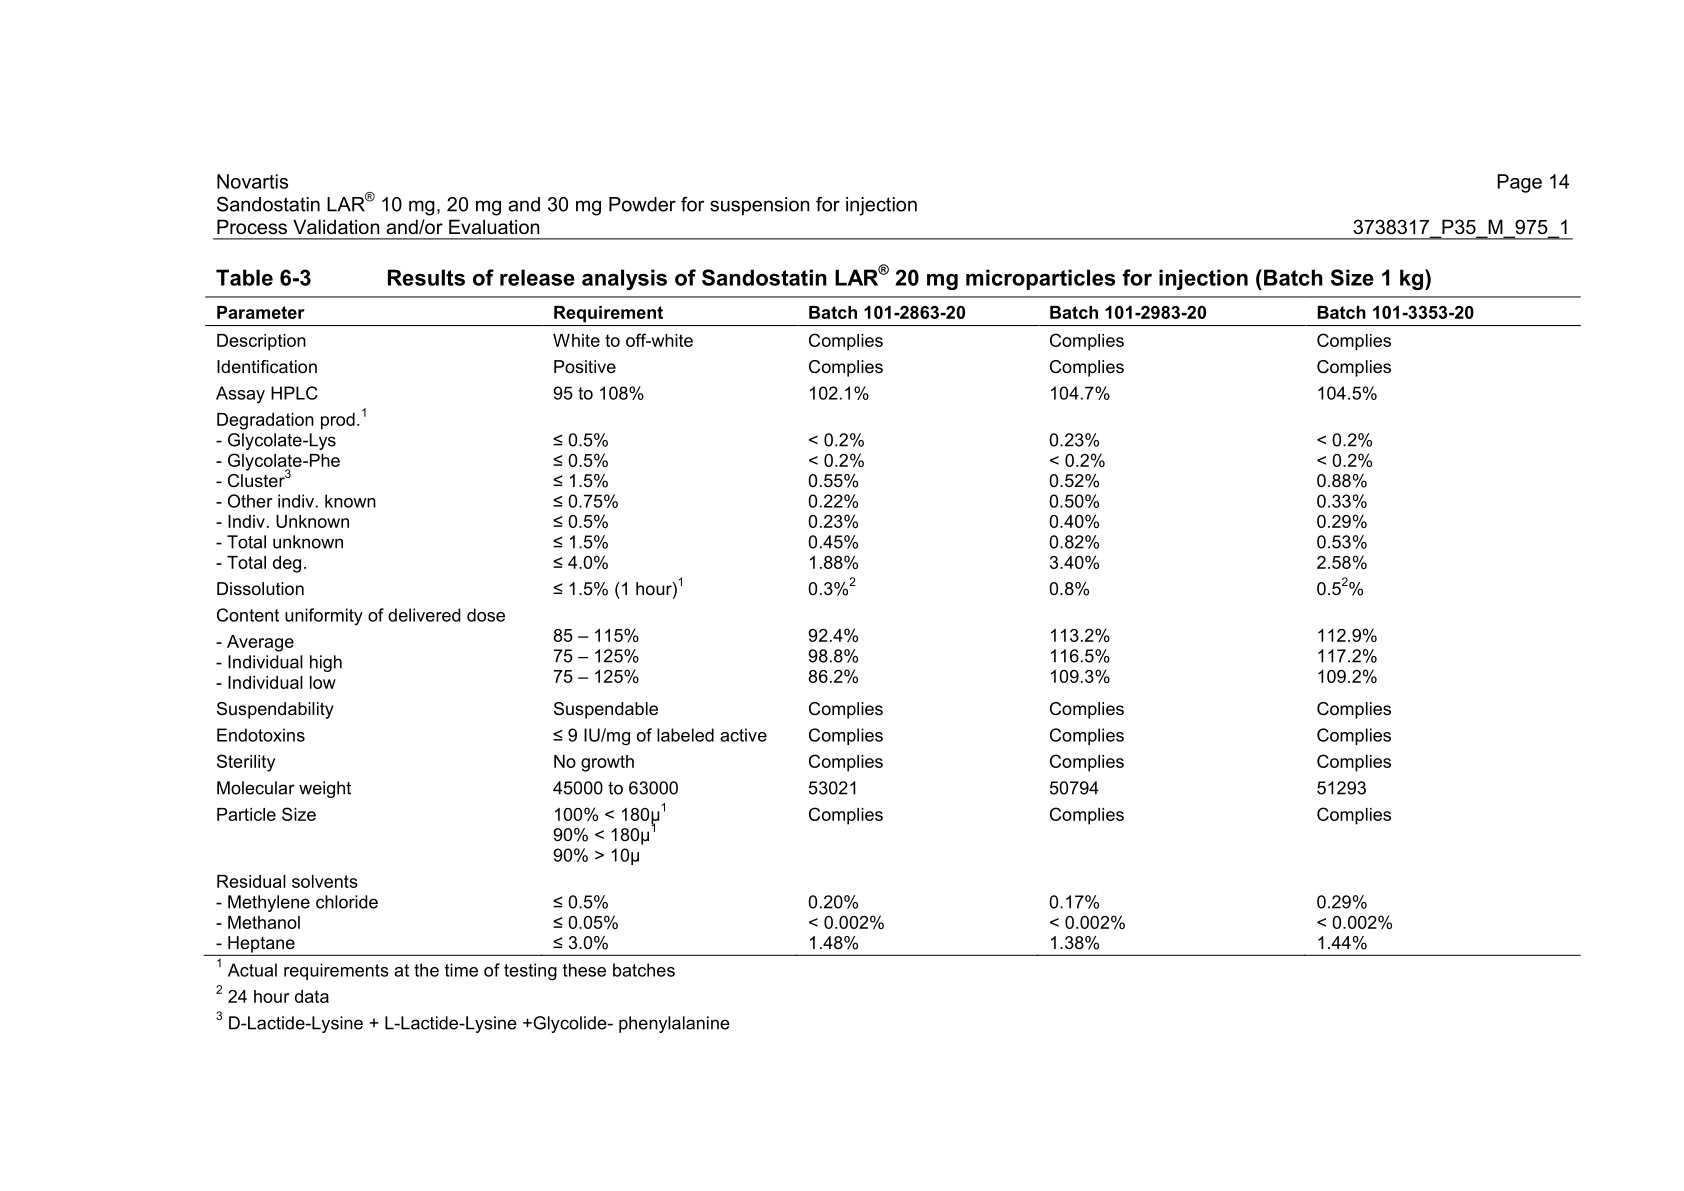partial_lined: (204, 295, 1581, 956)
